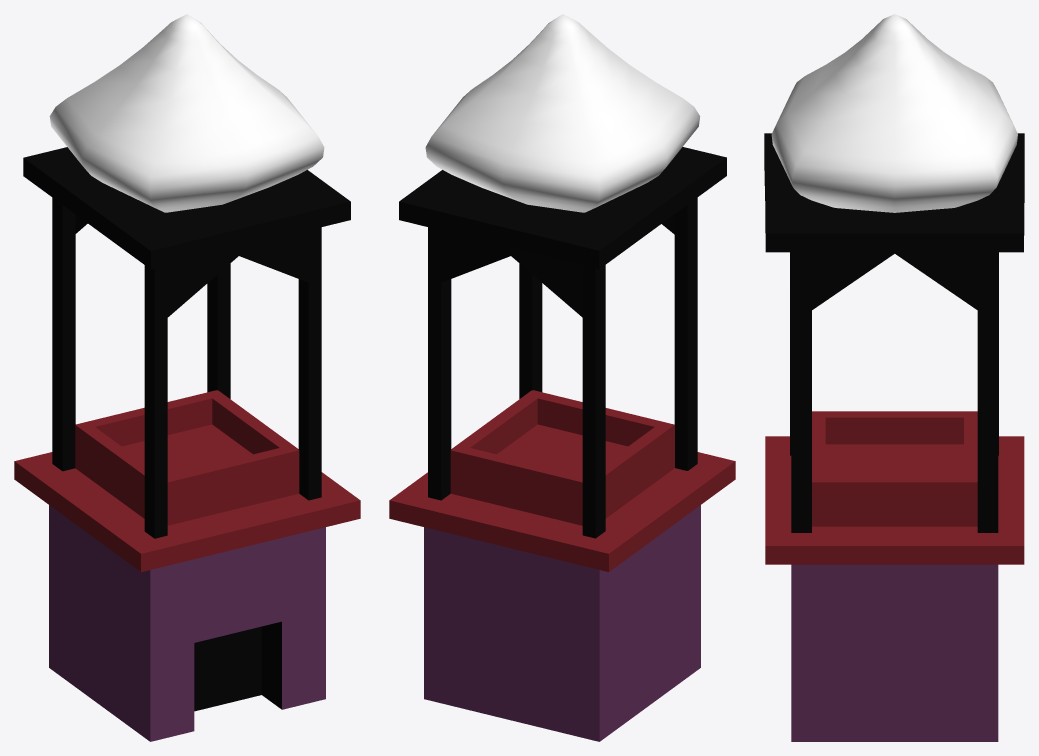
File: VisionTower.fbx
3 renders of one model, left to right at view 1: azimuth 30°, elevation 25°; view 2: azimuth 150°, elevation 25°; view 3: azimuth 270°, elevation 25°, orthographic. The views are drawn at different scales.
Parts seen in each view (by area): view 1: Cube.007; view 2: Cube.007; view 3: Cube.007.
Part boxes in pixels (left/top/right/bottom): Cube.007: left=14, top=14, right=360, bottom=741; Cube.007: left=389, top=14, right=735, bottom=741; Cube.007: left=764, top=14, right=1024, bottom=741.
Bounding box in the file's own units: 250 × 729 × 252.
